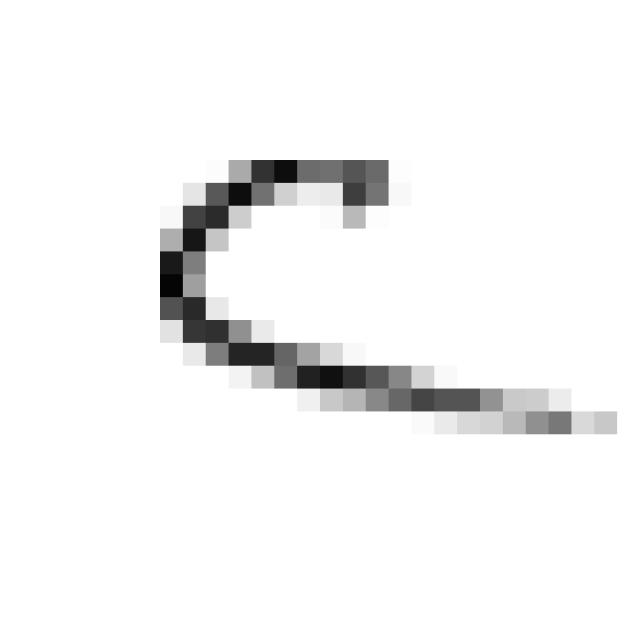2 -two-: (142, 132, 627, 462)
